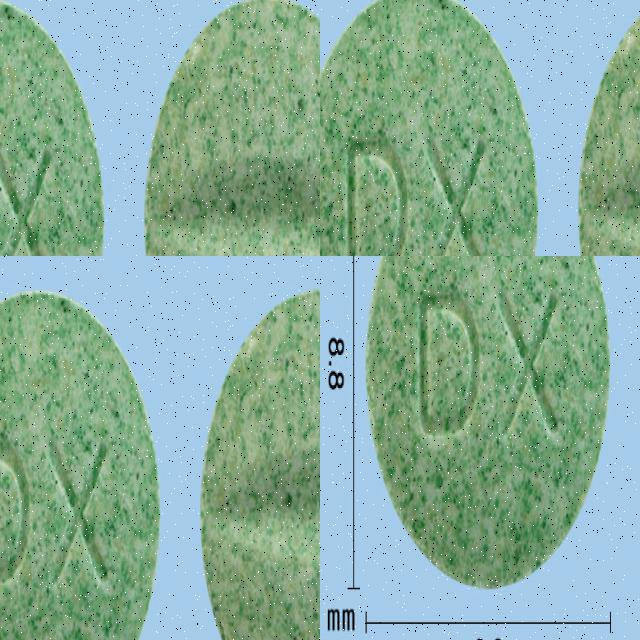Doxymycin N: (367, 256, 611, 589)
Famcivir: (0, 447, 196, 640), (190, 281, 320, 566)
Heliclo Tab: (320, 153, 591, 256), (560, 0, 640, 250)
Valcyte Tab: (143, 0, 320, 256), (0, 0, 107, 256)
